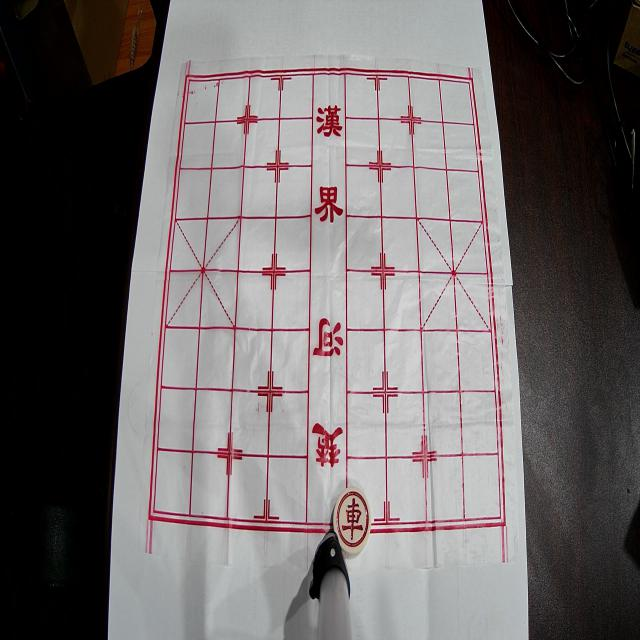red-chariot: (333, 486, 371, 556)
